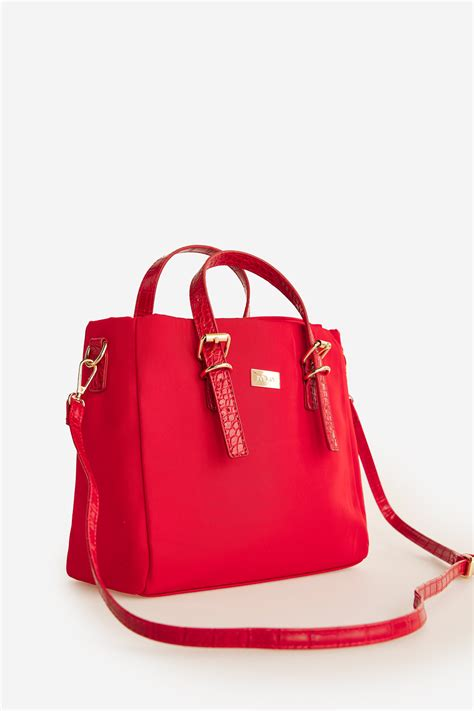nylon: (67, 316, 371, 598)
